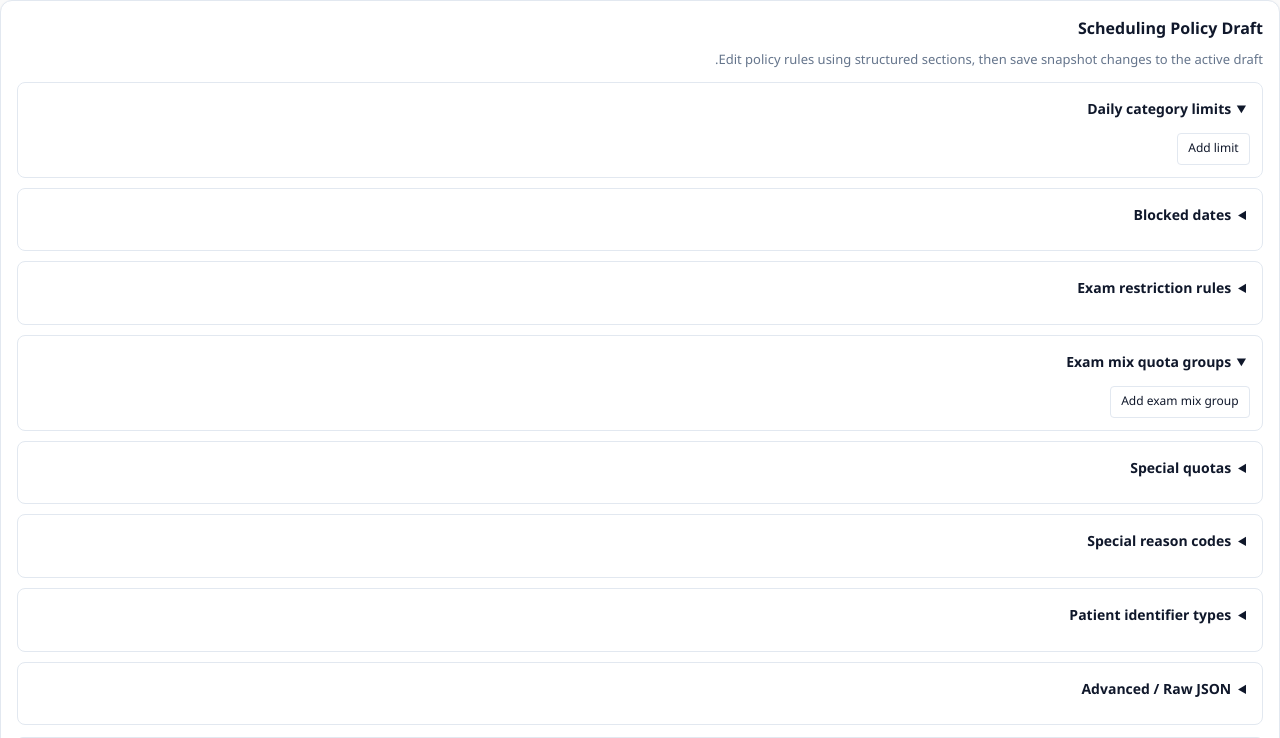
Test: PolicyDraftEditor generalized Special Quota groups › clears selected exams when the quota modality changes
Click the heading "Special quotas": (1181, 468) x1=1130 y1=454 x2=1231 y2=483
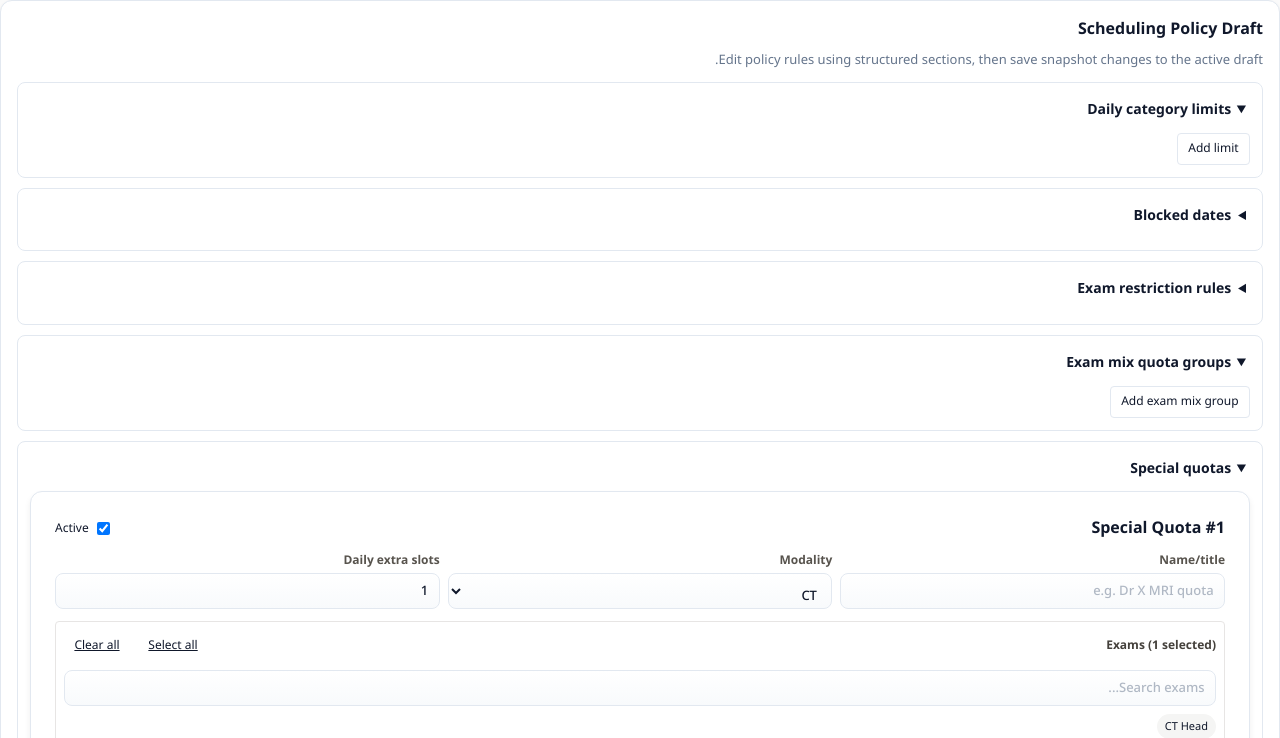
Select "MRI" in the dropdown named "Special Quota 1 modality": (640, 591) x1=448 y1=573 x2=832 y2=609
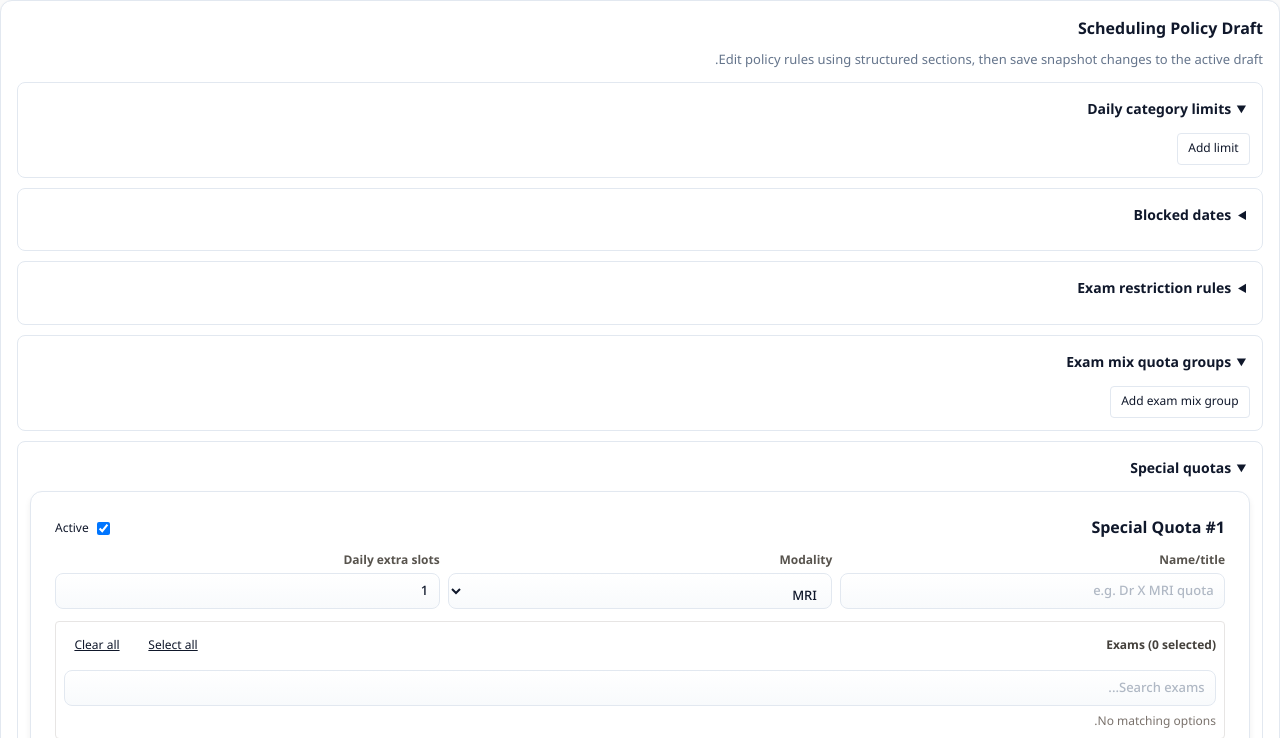
Expected: the text "Exams (0 selected)" is shown, x1=1106 y1=638 x2=1216 y2=654
